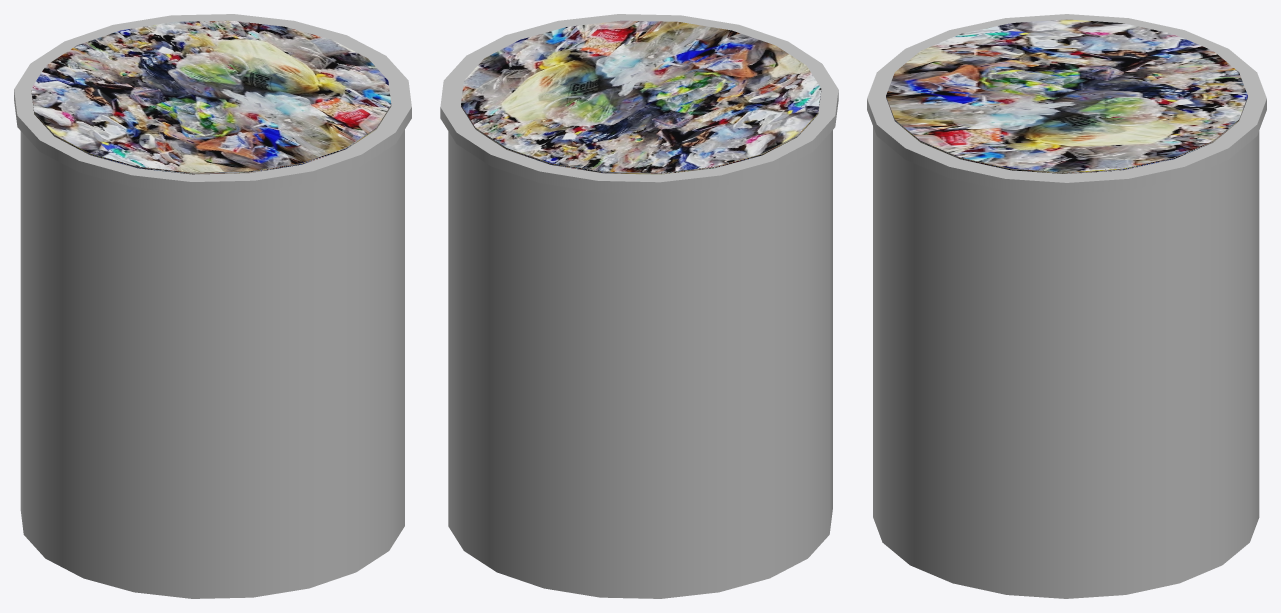
File: Trashcan.fbx
The picture shows the model from 3 angles, left to right: view 1: azimuth 30°, elevation 25°; view 2: azimuth 150°, elevation 25°; view 3: azimuth 270°, elevation 25°; orthographic projection.
Parts seen in each view (by area): view 1: Cylinder, Cylinder__1_, Cylinder__2_; view 2: Cylinder, Cylinder__1_, Cylinder__2_; view 3: Cylinder, Cylinder__1_, Cylinder__2_.
Part boxes in pixels (left/top/right/bottom): Cylinder: left=20, top=130, right=404, bottom=598; Cylinder__1_: left=31, top=20, right=391, bottom=174; Cylinder__2_: left=14, top=14, right=411, bottom=193; Cylinder: left=448, top=130, right=832, bottom=598; Cylinder__1_: left=461, top=20, right=821, bottom=174; Cylinder__2_: left=440, top=14, right=838, bottom=193; Cylinder: left=873, top=126, right=1259, bottom=598; Cylinder__1_: left=886, top=19, right=1247, bottom=173; Cylinder__2_: left=867, top=14, right=1266, bottom=194.
Size of the model in its own units: 104 by 120 by 104.
